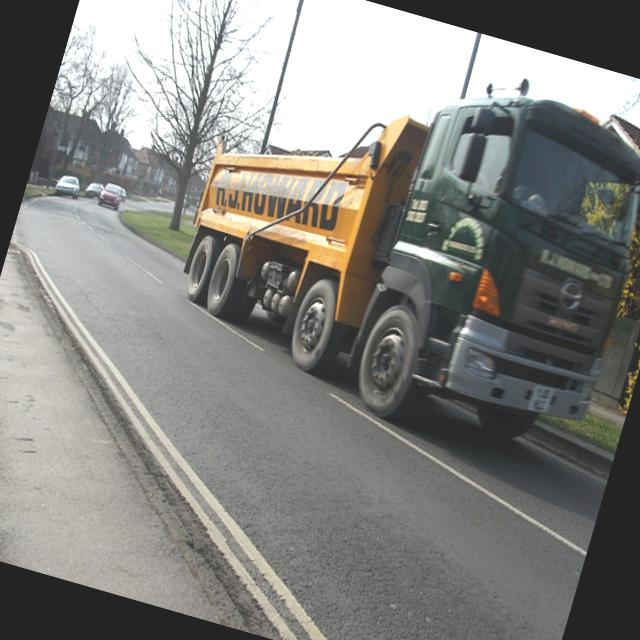Vehicle: (156, 19, 640, 472), (95, 180, 125, 210), (53, 173, 84, 201), (84, 180, 105, 200), (116, 186, 128, 202)
